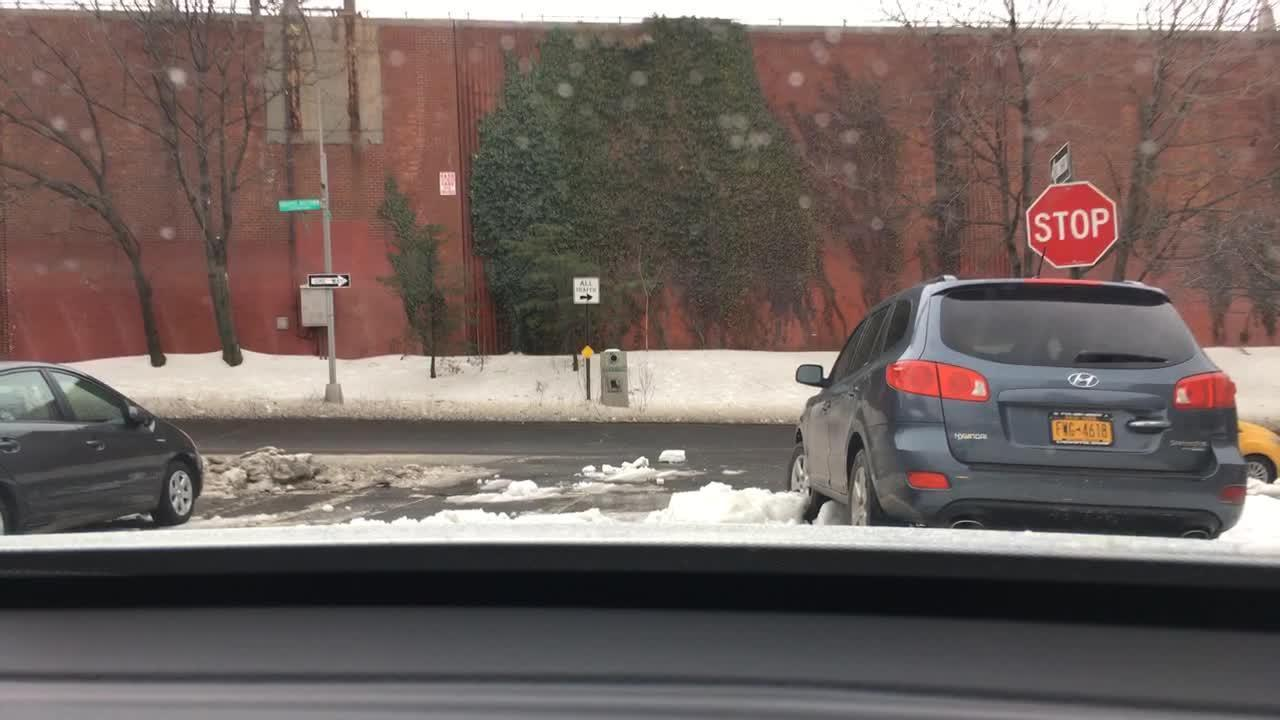Hyundai: (1058, 364, 1113, 401)
